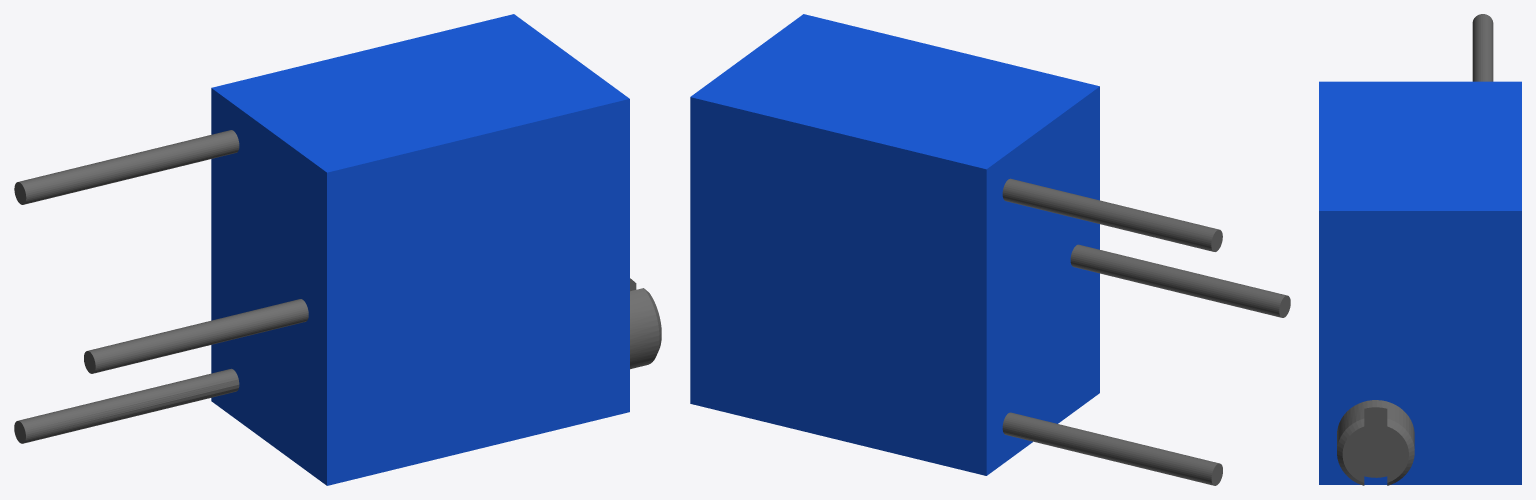
The model's file is TRIMPOT.fbx.
The picture shows the model from 3 angles, left to right: view 1: azimuth 30°, elevation 25°; view 2: azimuth 150°, elevation 25°; view 3: azimuth 270°, elevation 25°; orthographic projection. The views are drawn at different scales.
Visible parts, largest first — view 1: Potensiometer; view 2: Potensiometer; view 3: Potensiometer.
Part boxes in pixels (<box>): Potensiometer: <box>14,14,661,485</box>; Potensiometer: <box>690,14,1290,485</box>; Potensiometer: <box>1319,14,1521,485</box>.
Bounding box in the file's own units: 1258 × 671 × 450.
